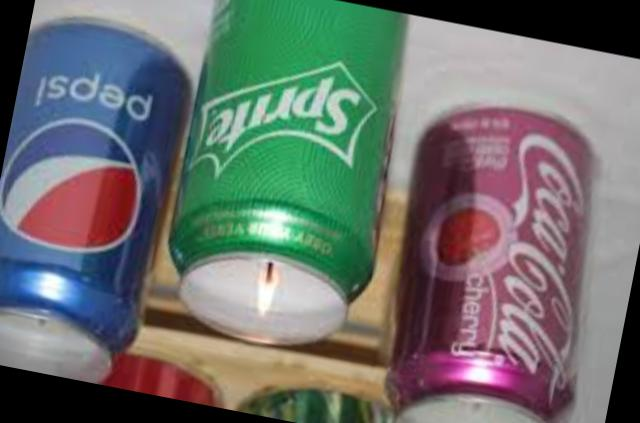metal: (174, 0, 409, 347), (0, 27, 190, 384), (388, 109, 592, 423)
